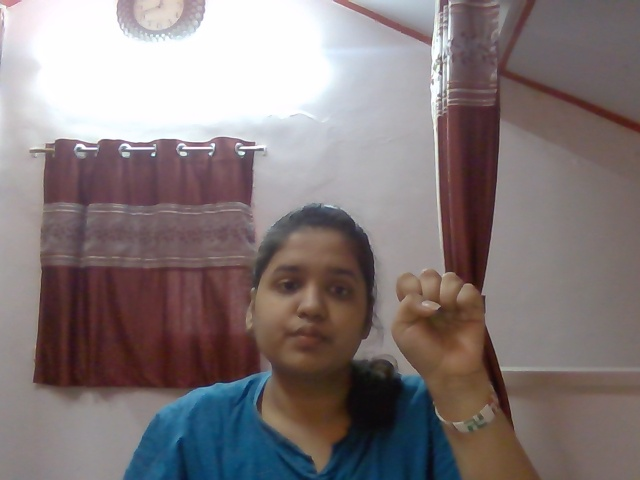s: (388, 251, 502, 374)
